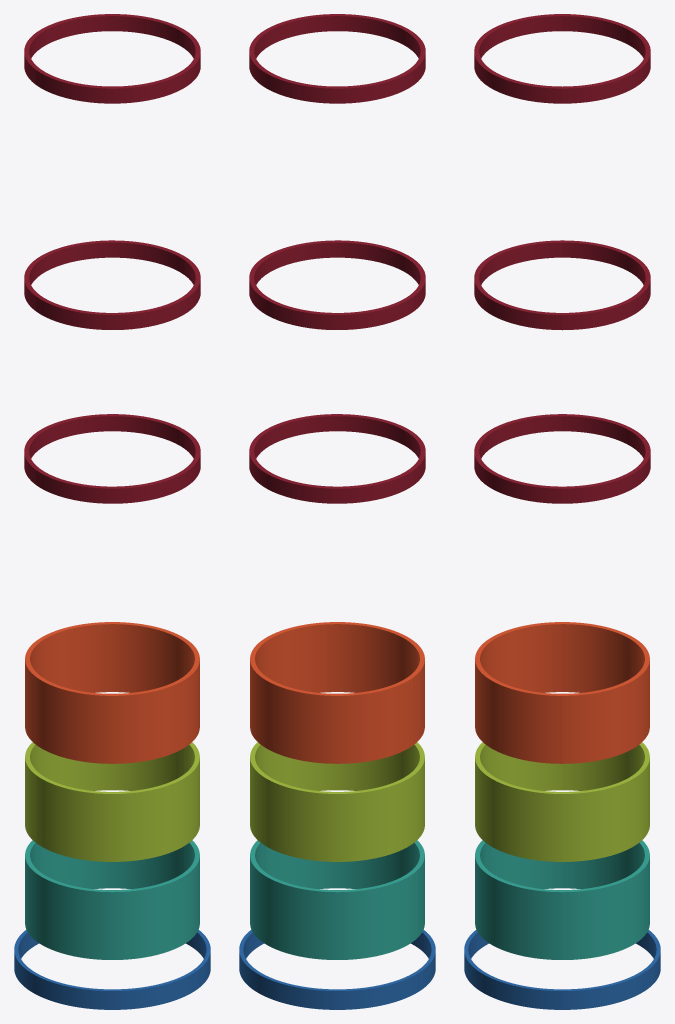
Rendered from vertical_turbine_pump_pressure.glb.
The picture shows the model from 3 angles, left to right: view 1: azimuth 30°, elevation 25°; view 2: azimuth 150°, elevation 25°; view 3: azimuth 270°, elevation 25°; orthographic projection.
Parts seen in each view (by area): view 1: pressure_rings__front, pressure_rings__back; view 2: pressure_rings__back, pressure_rings__front; view 3: pressure_rings__back, pressure_rings__front.
Part boxes in pixels (left/top/right/bottom): pressure_rings__front: left=27, top=32, right=210, bottom=1009; pressure_rings__back: left=14, top=14, right=193, bottom=988; pressure_rings__back: left=239, top=32, right=422, bottom=1009; pressure_rings__front: left=256, top=14, right=435, bottom=988; pressure_rings__back: left=562, top=14, right=660, bottom=1009; pressure_rings__front: left=464, top=14, right=562, bottom=1009.
Bounding box in the file's own units: 0.472 × 2.43 × 0.472.
